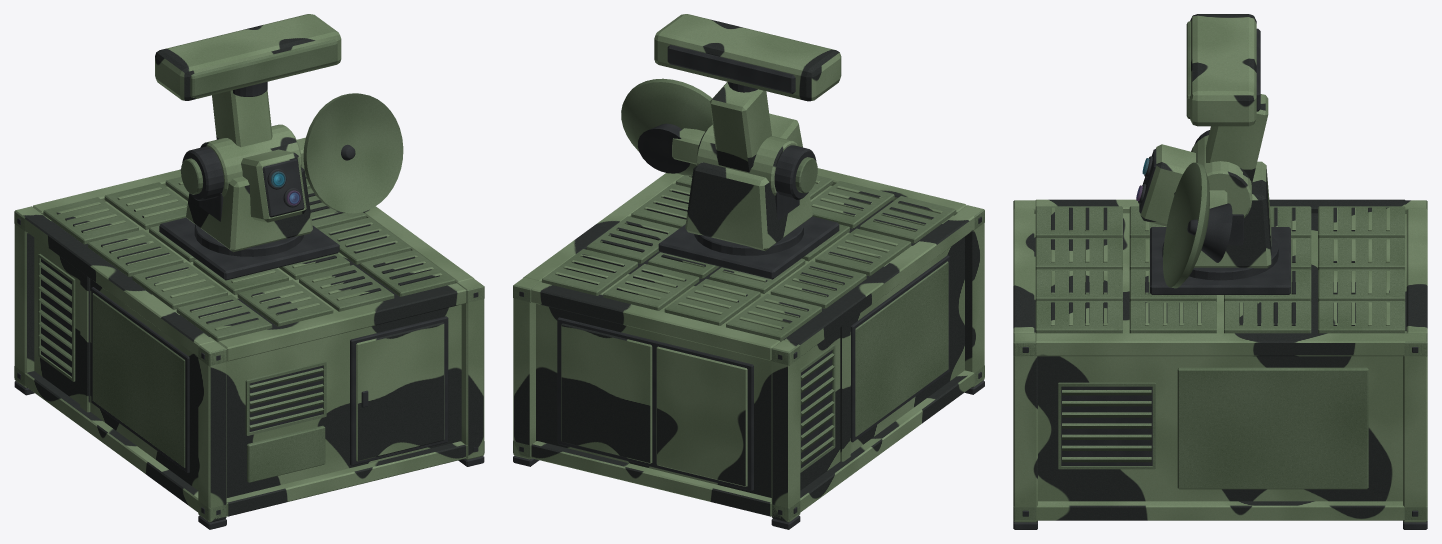
File: skyshield_radar_fcu.glb
The picture shows the model from 3 angles, left to right: view 1: azimuth 30°, elevation 25°; view 2: azimuth 150°, elevation 25°; view 3: azimuth 270°, elevation 25°; orthographic projection. The views are drawn at different scales.
Parts seen in each view (by area): view 1: Skyshield_Radar_FCU_Container_Main, Skyshield_Radar_FCU_Container_Light, Skyshield_Radar_FCU_Dish_Reflector, Skyshield_Radar_FCU_Container_Dark, Skyshield_Radar_FCU_Pedestal_Main, Skyshield_Radar_FCU_SearchBar_Main, Skyshield_Radar_FCU_Pedestal_Dark, Skyshield_Radar_FCU_SearchBar_Light, Skyshield_Radar_FCU_Sensor_Main, Skyshield_Radar_FCU_EO_Pod_Main, Skyshield_Radar_FCU_EO_Pod_Dark, Skyshield_Radar_FCU_Sensor_Dark (+1 smaller); view 2: Skyshield_Radar_FCU_Container_Main, Skyshield_Radar_FCU_Container_Light, Skyshield_Radar_FCU_Pedestal_Main, Skyshield_Radar_FCU_Container_Dark, Skyshield_Radar_FCU_SearchBar_Main, Skyshield_Radar_FCU_Pedestal_Dark, Skyshield_Radar_FCU_Dish_Reflector, Skyshield_Radar_FCU_Sensor_Main, Skyshield_Radar_FCU_SearchBar_Dark, Skyshield_Radar_FCU_Dish_Backing, Skyshield_Radar_FCU_Sensor_Dark, Skyshield_Radar_FCU_EO_Pod_Main (+1 smaller); view 3: Skyshield_Radar_FCU_Container_Main, Skyshield_Radar_FCU_Container_Light, Skyshield_Radar_FCU_SearchBar_Main, Skyshield_Radar_FCU_Pedestal_Main, Skyshield_Radar_FCU_Pedestal_Dark, Skyshield_Radar_FCU_Container_Dark, Skyshield_Radar_FCU_Dish_Reflector, Skyshield_Radar_FCU_EO_Pod_Main, Skyshield_Radar_FCU_Sensor_Main, Skyshield_Radar_FCU_Dish_Backing.
Boxes of the visible parts, x1,y1,x2,y2 form: Skyshield_Radar_FCU_Container_Main: [14, 169, 484, 522]; Skyshield_Radar_FCU_Container_Light: [14, 173, 484, 520]; Skyshield_Radar_FCU_Dish_Reflector: [303, 93, 403, 213]; Skyshield_Radar_FCU_Container_Dark: [14, 218, 484, 529]; Skyshield_Radar_FCU_Pedestal_Main: [186, 89, 312, 252]; Skyshield_Radar_FCU_SearchBar_Main: [155, 14, 341, 100]; Skyshield_Radar_FCU_Pedestal_Dark: [159, 81, 339, 280]; Skyshield_Radar_FCU_SearchBar_Light: [190, 39, 337, 97]; Skyshield_Radar_FCU_Sensor_Main: [200, 124, 305, 196]; Skyshield_Radar_FCU_EO_Pod_Main: [241, 149, 306, 222]; Skyshield_Radar_FCU_EO_Pod_Dark: [262, 159, 304, 217]; Skyshield_Radar_FCU_Sensor_Dark: [182, 146, 223, 200]; Skyshield_Radar_FCU_Container_Main: [513, 168, 984, 522]; Skyshield_Radar_FCU_Container_Light: [513, 175, 984, 520]; Skyshield_Radar_FCU_Pedestal_Main: [685, 82, 812, 250]; Skyshield_Radar_FCU_Container_Dark: [513, 217, 984, 529]; Skyshield_Radar_FCU_SearchBar_Main: [654, 14, 841, 101]; Skyshield_Radar_FCU_Pedestal_Dark: [658, 82, 839, 279]; Skyshield_Radar_FCU_Dish_Reflector: [621, 78, 712, 175]; Skyshield_Radar_FCU_Sensor_Main: [672, 125, 797, 195]; Skyshield_Radar_FCU_SearchBar_Dark: [667, 44, 795, 93]; Skyshield_Radar_FCU_Dish_Backing: [637, 123, 690, 173]; Skyshield_Radar_FCU_Sensor_Dark: [774, 145, 816, 199]; Skyshield_Radar_FCU_EO_Pod_Main: [769, 113, 802, 147]; Skyshield_Radar_FCU_Container_Main: [1013, 199, 1427, 522]; Skyshield_Radar_FCU_Container_Light: [1013, 200, 1427, 520]; Skyshield_Radar_FCU_SearchBar_Main: [1190, 14, 1256, 126]; Skyshield_Radar_FCU_Pedestal_Main: [1174, 94, 1271, 268]; Skyshield_Radar_FCU_Pedestal_Dark: [1150, 214, 1290, 294]; Skyshield_Radar_FCU_Container_Dark: [1013, 347, 1427, 529]; Skyshield_Radar_FCU_Dish_Reflector: [1163, 162, 1209, 288]; Skyshield_Radar_FCU_EO_Pod_Main: [1140, 144, 1195, 226]; Skyshield_Radar_FCU_Sensor_Main: [1191, 135, 1252, 217]; Skyshield_Radar_FCU_Dish_Backing: [1187, 203, 1232, 262].
Size of the model in its own units: 2.46 by 3.24 by 2.99.
Materials: 6 (6 with a texture image).
